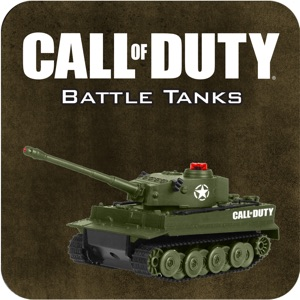Battle Tank: (21, 145, 281, 283)
